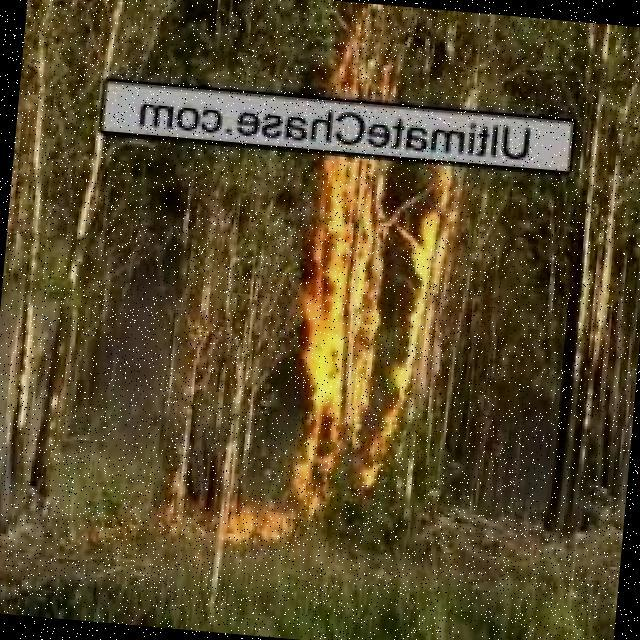Fire: (270, 152, 463, 511), (530, 158, 628, 461), (295, 21, 422, 110), (213, 518, 307, 548)
